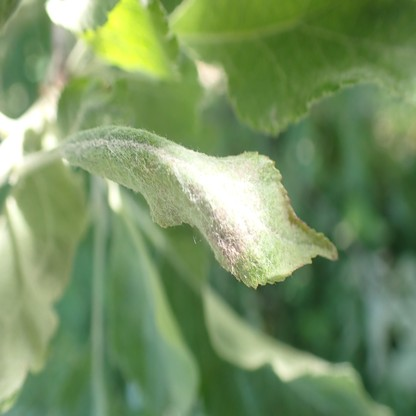powdery_mildew: (64, 123, 338, 287)
